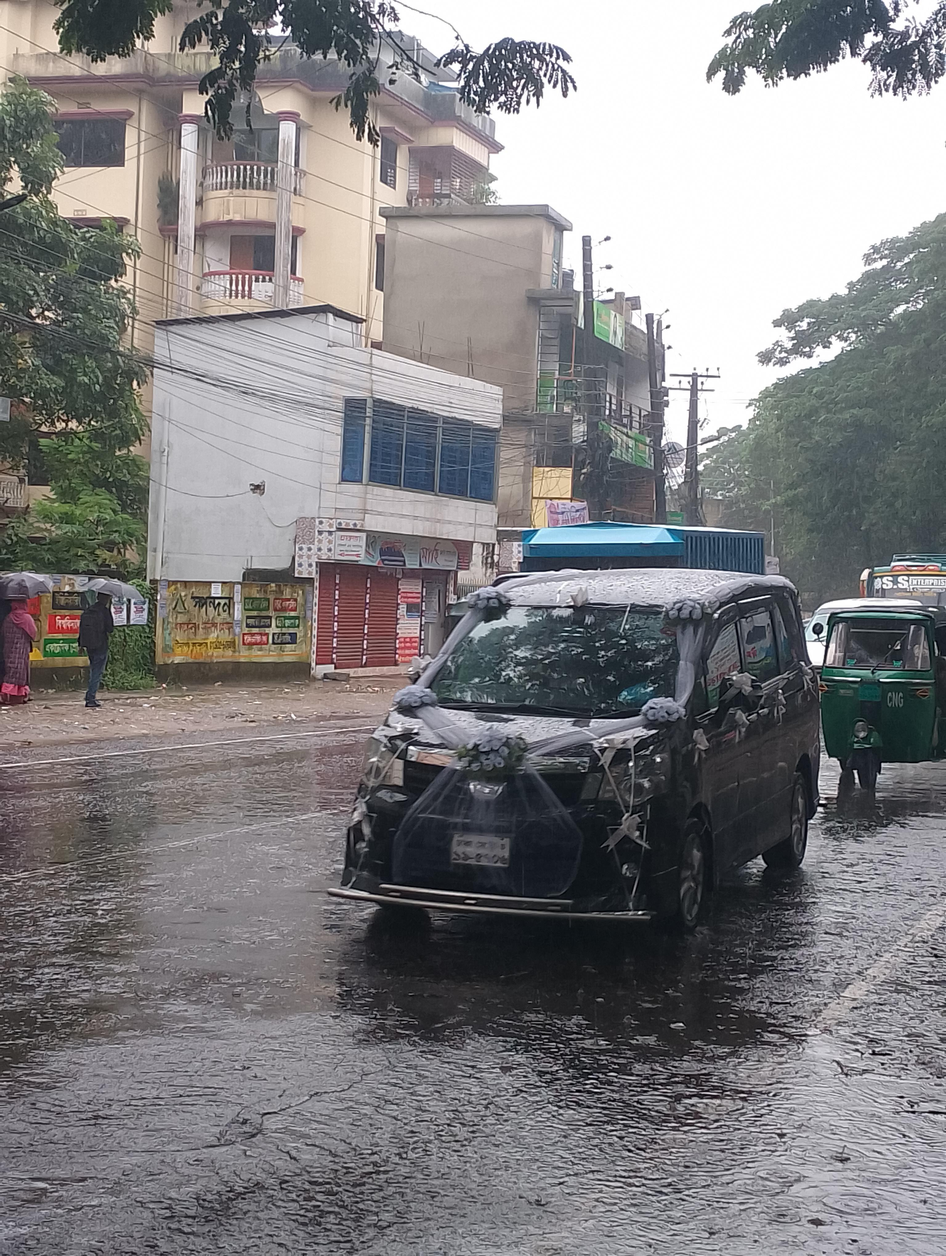Bus: (313, 539, 829, 934)
